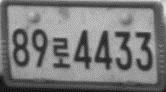3: (113, 30, 132, 70), (134, 31, 153, 71)
4: (93, 30, 113, 70), (73, 29, 92, 69)
8: (11, 28, 29, 66)
9: (31, 28, 47, 66)
로: (52, 37, 70, 68)
